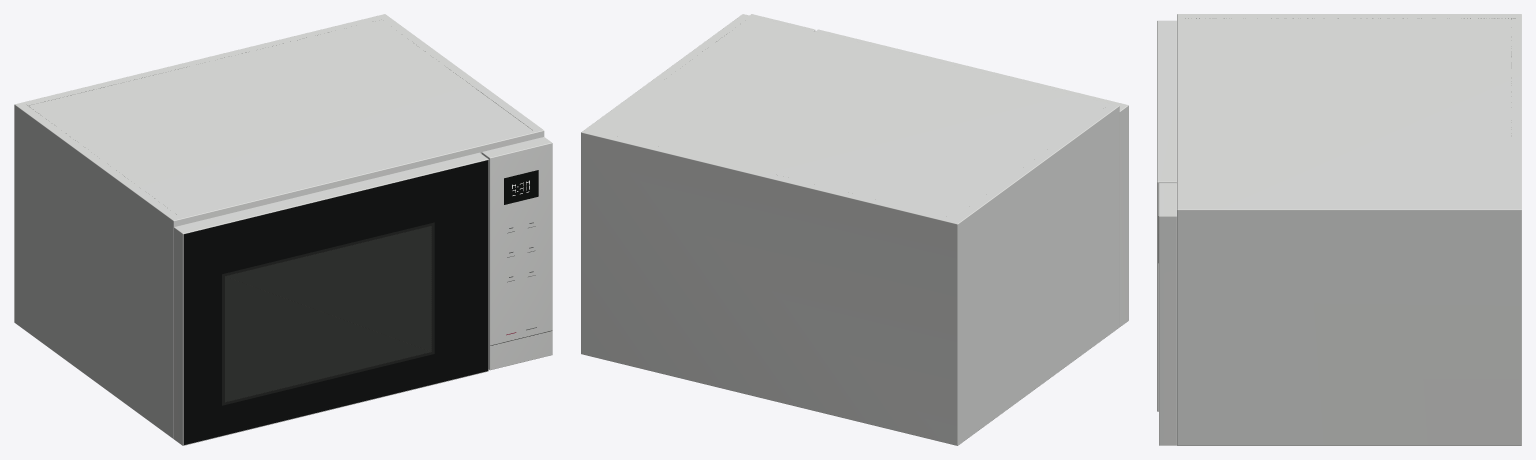
The model's file is MW30EDN.glb.
3 views of the same model, side by side, from view 1: azimuth 30°, elevation 25°; view 2: azimuth 150°, elevation 25°; view 3: azimuth 270°, elevation 25° (orthographic). The views are drawn at different scales.
Parts seen in each view (by area): view 1: BodyShell, FullDoorGlass, WindowMesh, ControlPanel, DoorBody, WindowRim, ControlDisplay; view 2: BodyShell, DoorBody; view 3: BodyShell, ControlPanel, DoorBody.
Part boxes in pixels (<box>): BodyShell: <box>14,14,544,438</box>; FullDoorGlass: <box>183,160,488,444</box>; WindowMesh: <box>225,226,431,402</box>; ControlPanel: <box>481,137,552,370</box>; DoorBody: <box>174,152,488,445</box>; WindowRim: <box>222,222,434,405</box>; ControlDisplay: <box>504,170,538,204</box>; BodyShell: <box>581,14,1119,445</box>; DoorBody: <box>815,29,1128,326</box>; BodyShell: <box>1177,14,1521,445</box>; ControlPanel: <box>1159,183,1176,445</box>; DoorBody: <box>1157,20,1176,411</box>.
Bounding box in the file's own units: 0.508 × 0.29 × 0.4.
Materials: 12 (1 with a texture image).
